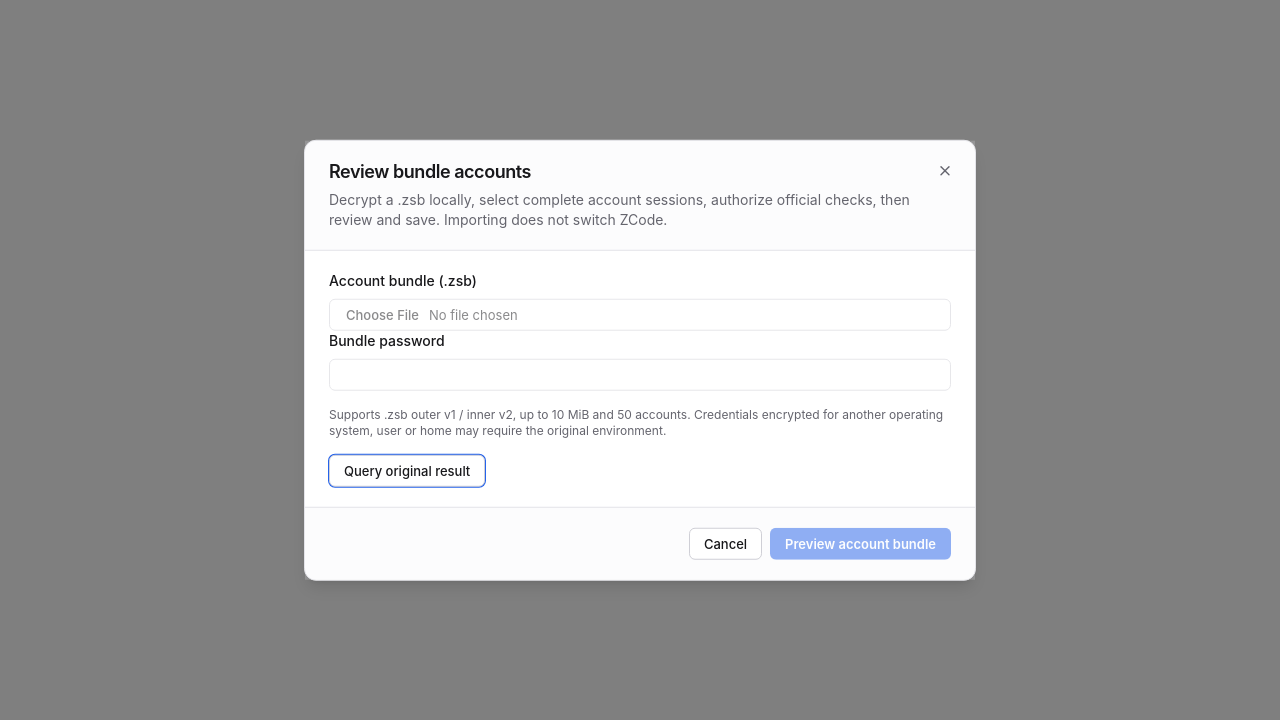
Test: ZCode bundle import › keeps unknown recovery and blocks a new preview from replacing it
Expected: the file field labelled "Account bundle (.zsb)" is disabled, [329,298,951,330]
Click the button "Query original result" at [407, 470], box [329,454,485,486]
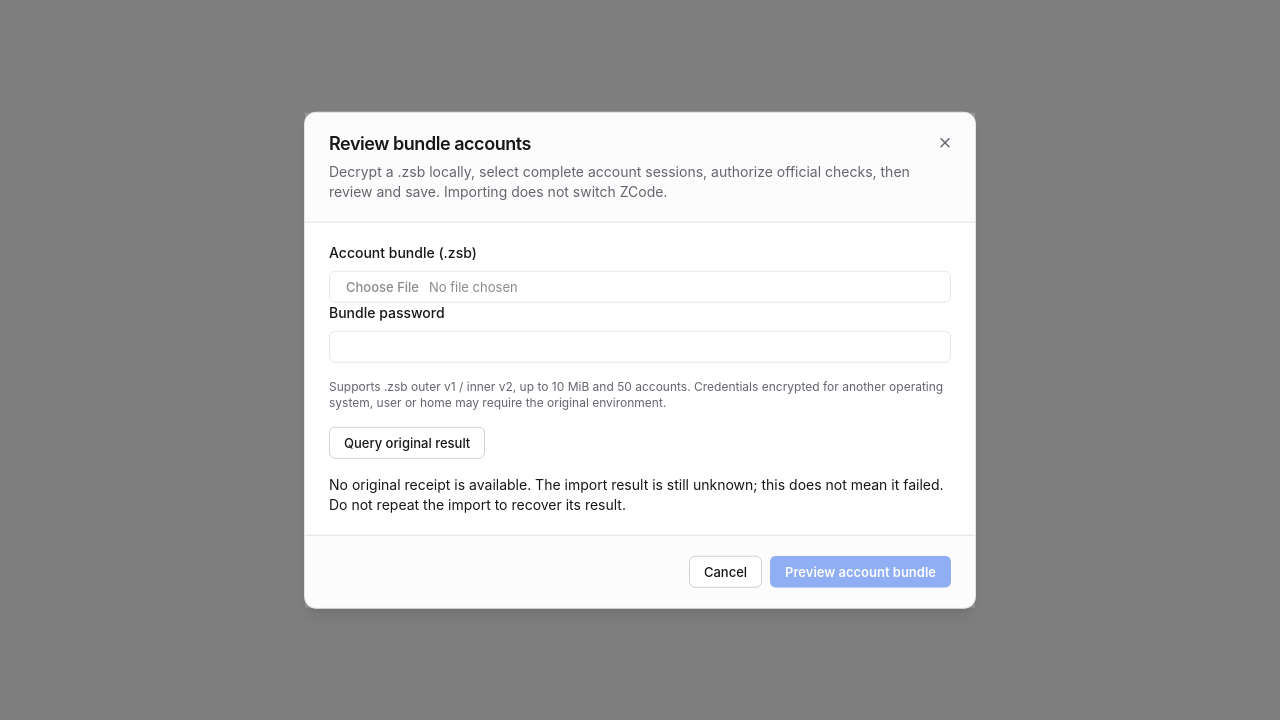
Expected: the file field labelled "Account bundle (.zsb)" is disabled, [329,270,951,302]
Expected: the text "No original receipt is available" is shown, [329,475,944,512]
